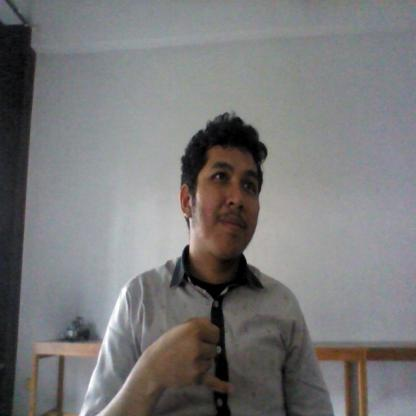J: (130, 308, 243, 405)
